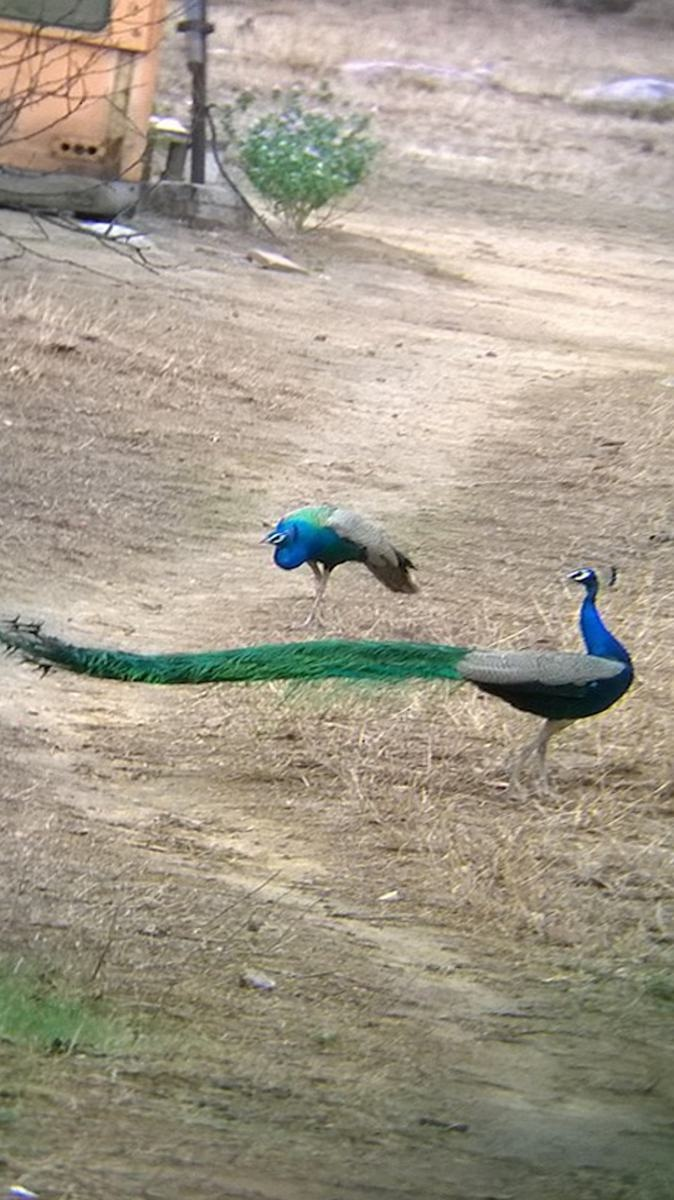peacock: (1, 566, 644, 772), (214, 470, 454, 612)
